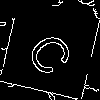C: (25, 25, 83, 79)
